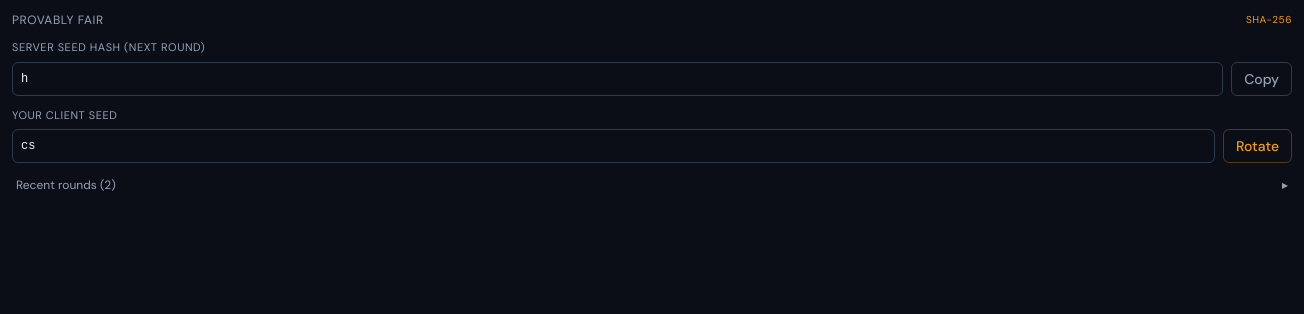
ProvablyFairPanel › shows ✗ when verifyResult returns valid:false
This screenshot has width=1304, height=314.
Click the button "Recent rounds (2) ▸".
click(58, 185)  # box [12, 175, 1292, 195]
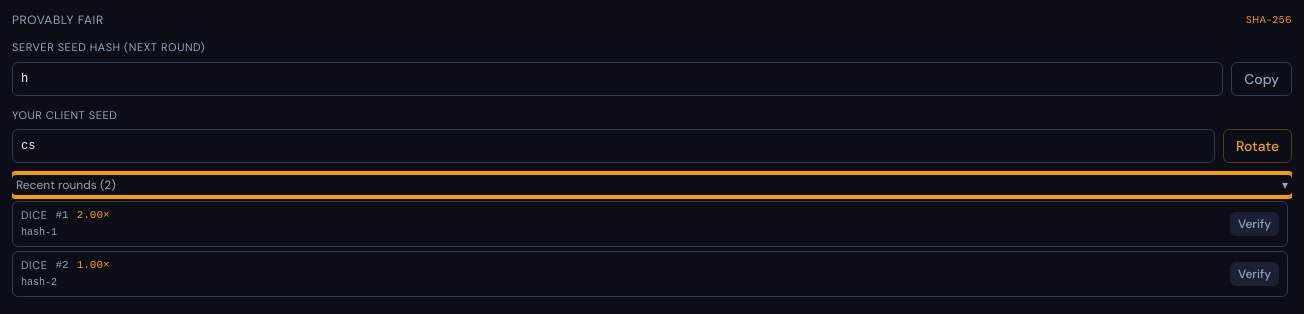
Click the button "Verify" in the row of "2.00".
click(1254, 224)  # box [1230, 212, 1279, 236]
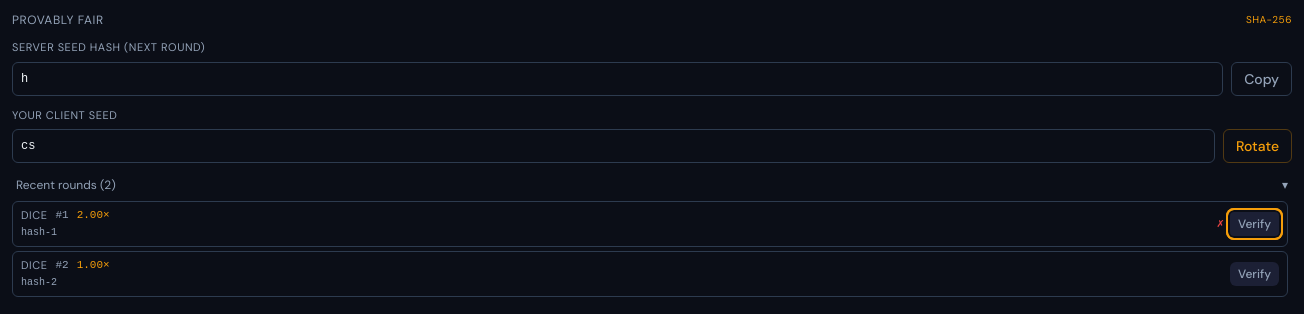
Expected: the text named "Verification failed" reads "✗", [1217, 217, 1224, 231]
